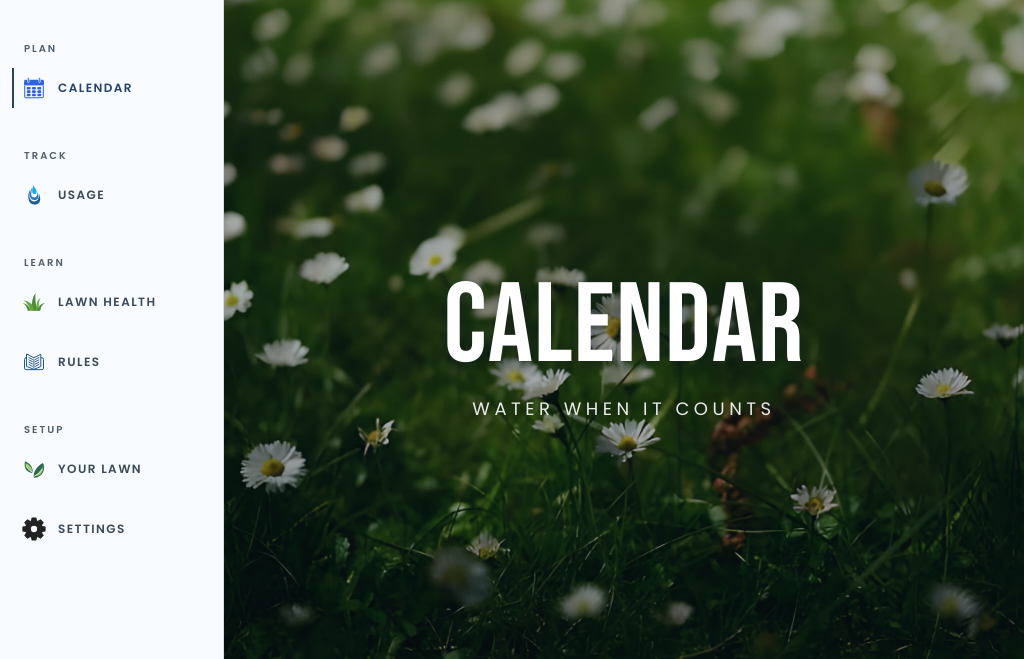
Test: app UI › lawn care topics circle their photos around the name and can be switched
The image size is (1024, 659).
Step 1. Click the button "Lawn Health" → (112, 302), box [12,282,211,322]
(page scrolled)
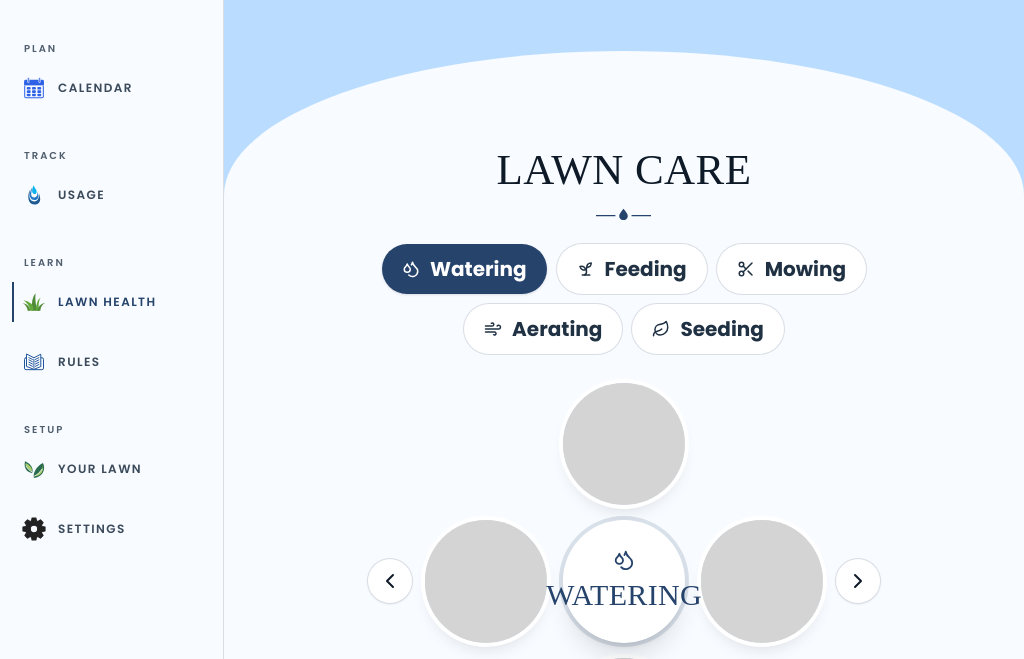
expect the heading "Watering" is shown: met, box [546,576,702,614]
Step 2. Click the tab "Aerating" → (543, 330), box [464,304,622,354]
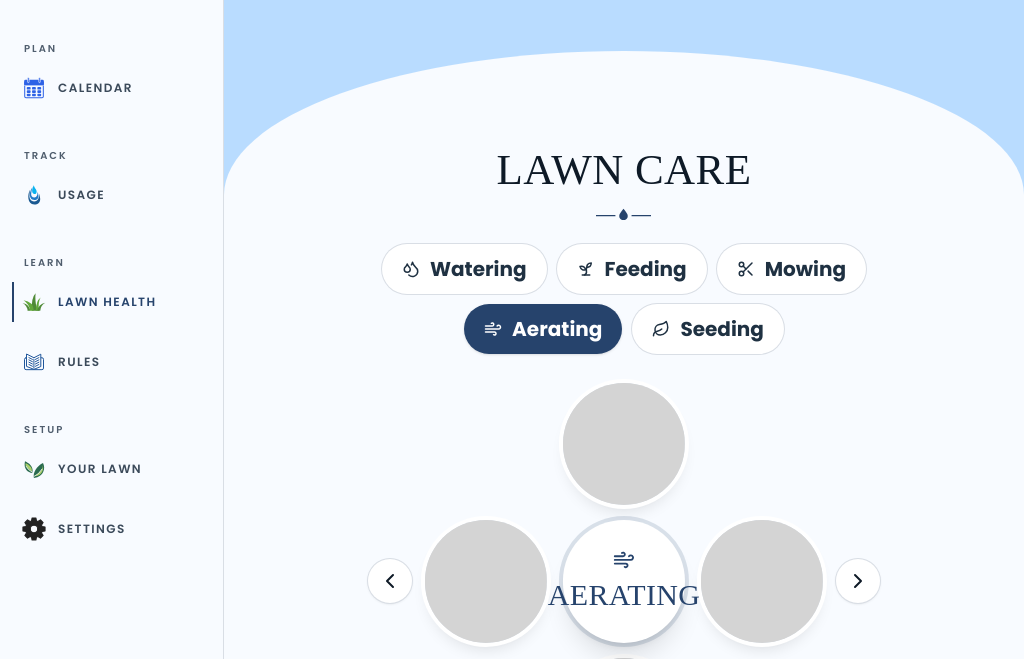
expect the heading "Aerating" is shown: met, box [548,576,700,614]
Step 3. Click the button named "Next topic" → (858, 582), box [836,560,880,604]
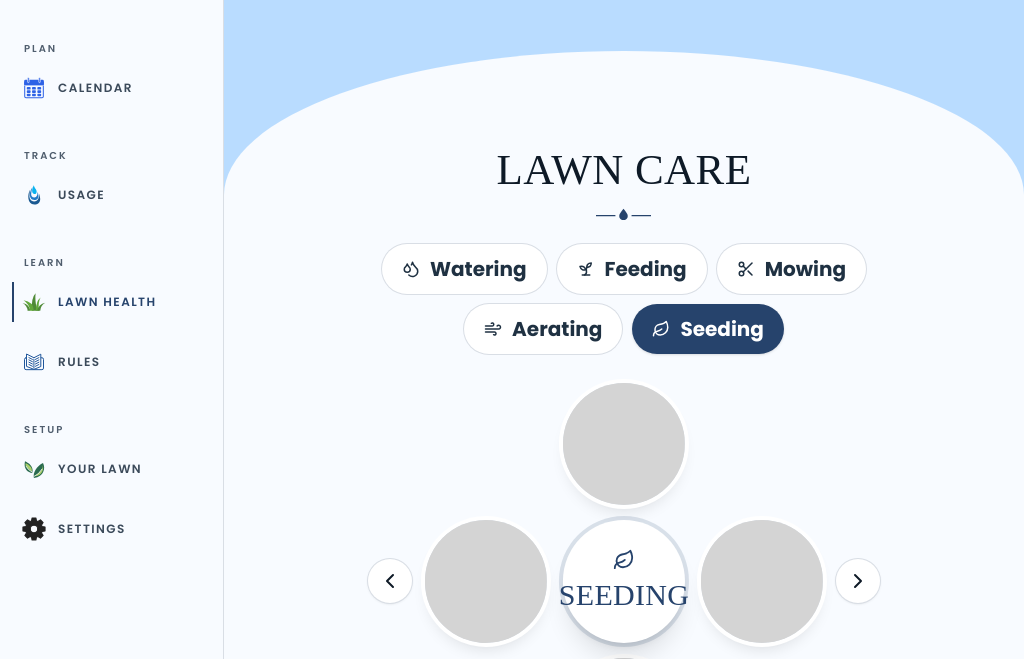
expect the heading "Seeding" is shown: met, box [559,576,689,614]
